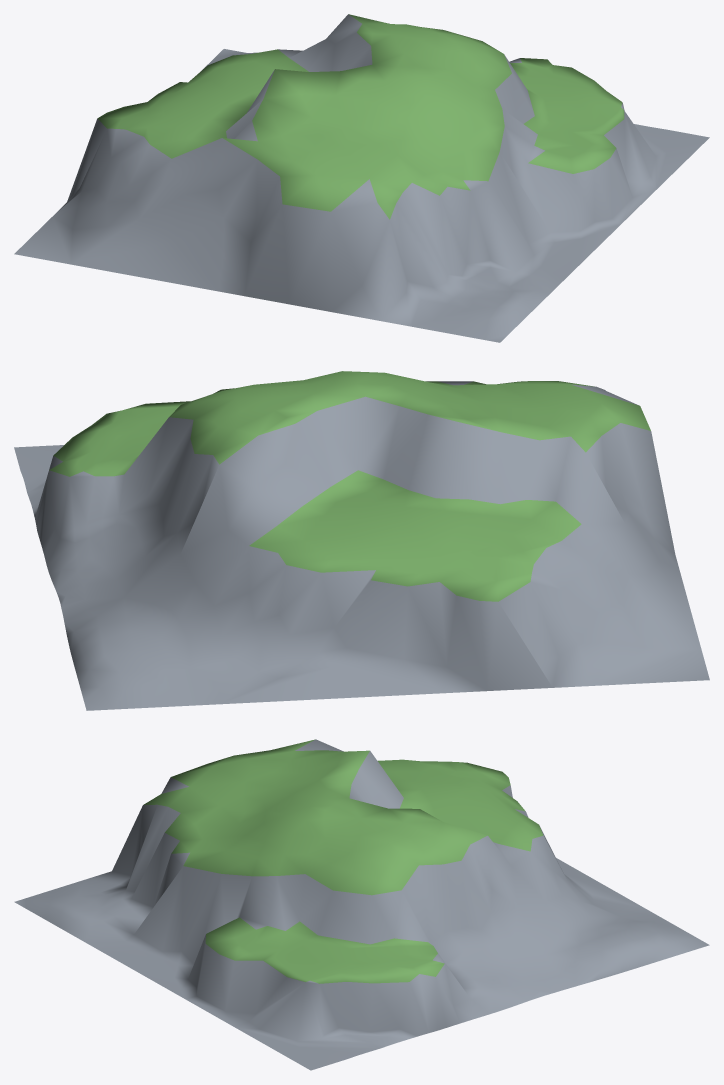
The model's file is SM_Cliffs_13.obj.
3 renders of one model, top to bottom at view 1: azimuth 30°, elevation 25°; view 2: azimuth 150°, elevation 25°; view 3: azimuth 270°, elevation 25°, orthographic. The views are drawn at different scales.
Parts seen in each view (by area): view 1: SM_Cliffs_13; view 2: SM_Cliffs_13; view 3: SM_Cliffs_13.
Boxes of the visible parts, <box> form: SM_Cliffs_13: <box>14,14,709,342</box>; SM_Cliffs_13: <box>14,371,709,710</box>; SM_Cliffs_13: <box>14,739,709,1070</box>.
Bounding box in the file's own units: 15.23 × 3.26 × 15.23.
1 material, 1 textured.
